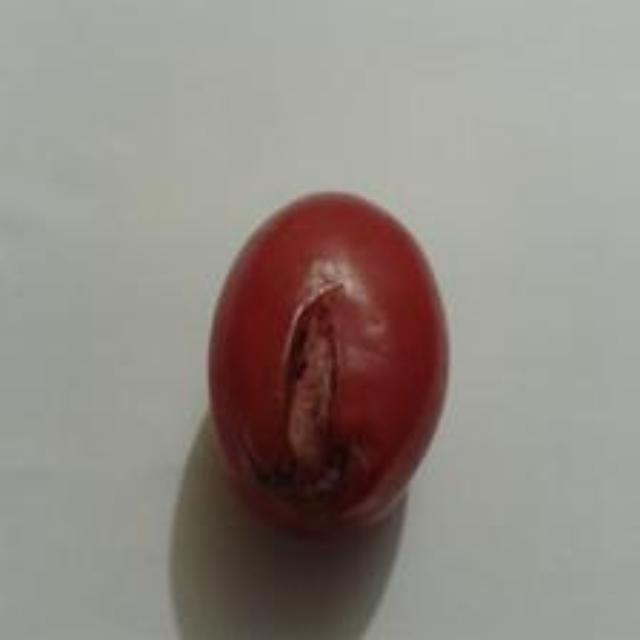defect: (205, 187, 451, 539)
